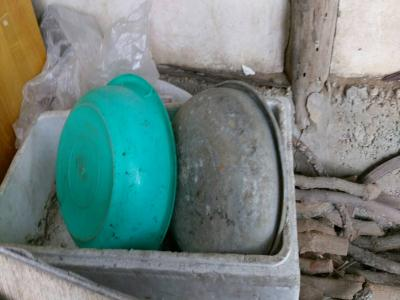bowl: (52, 71, 179, 253), (168, 77, 288, 258)
plastic_bag: (37, 1, 155, 101)
styrofoam: (2, 94, 301, 298)
